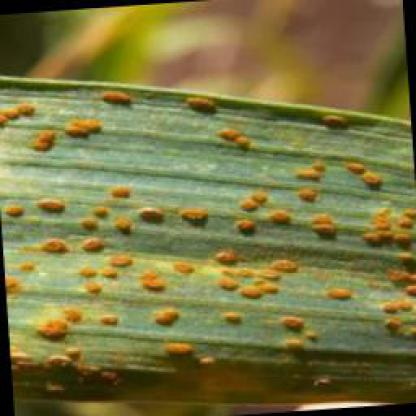Wheat Brown-rust: (1, 127, 328, 374), (334, 123, 415, 357), (5, 97, 256, 122), (42, 380, 136, 400)
